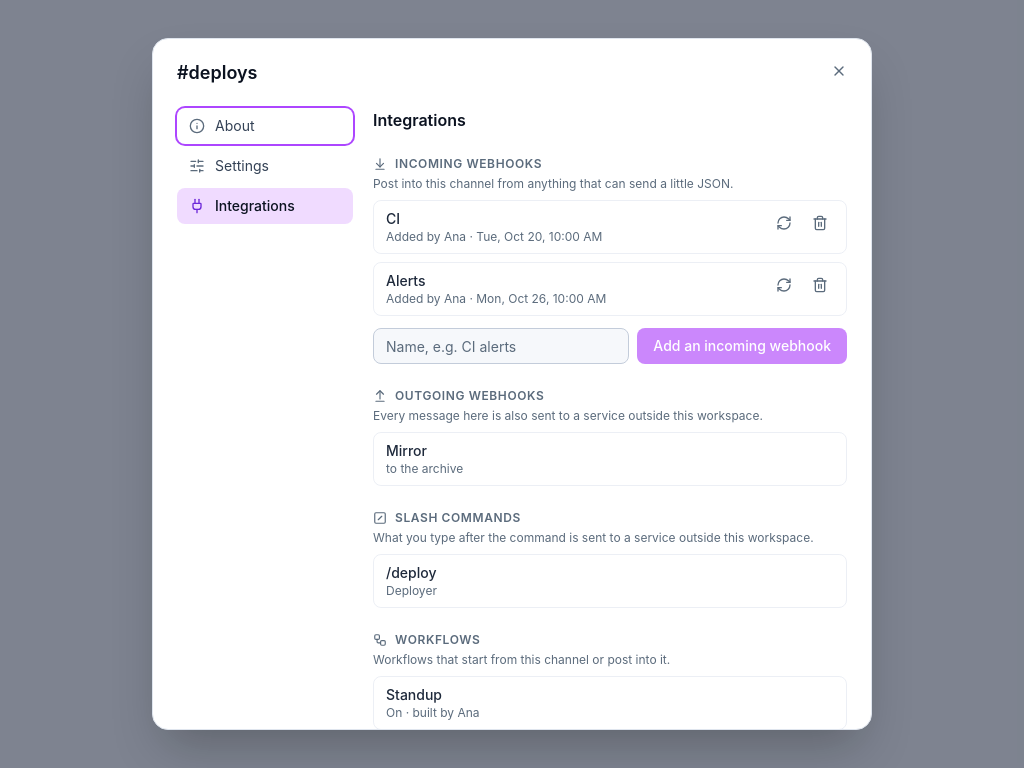
Test: ChannelDetailsModal integrations › adds an incoming webhook and shows its URL under it
Type "Alerts" into the field with test id "channel-webhook-name". click: (501, 346)
box: [373,328,629,364]
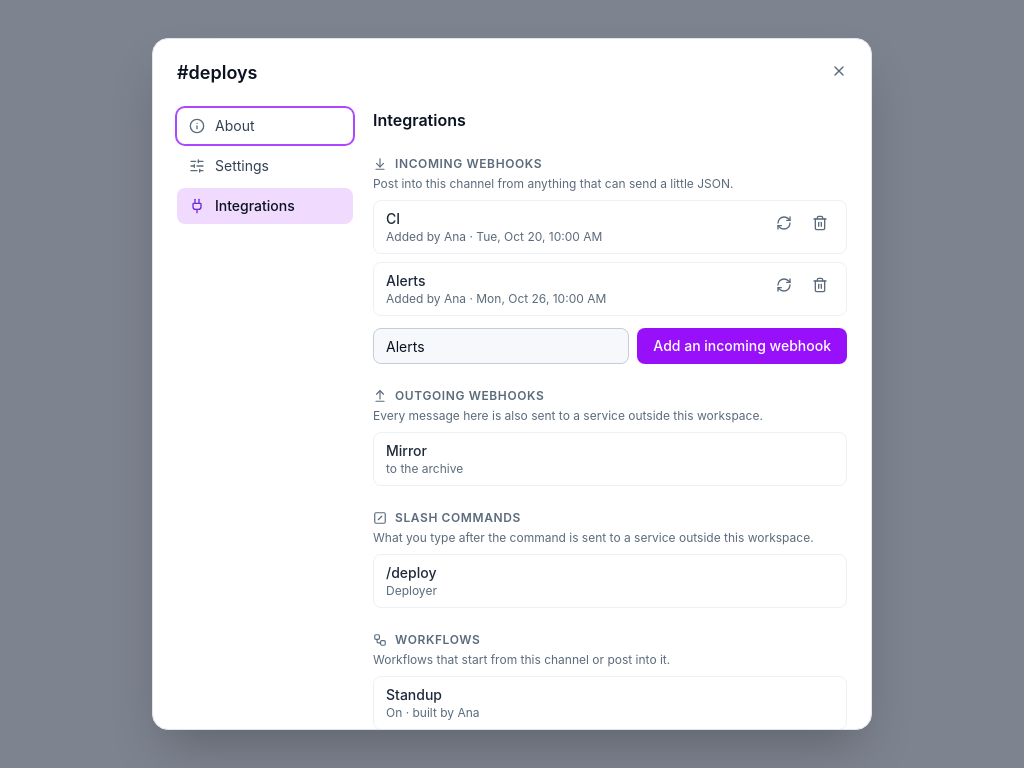
Click the button with test id "channel-webhook-add". click: (742, 346)
box: [637,328,847,364]
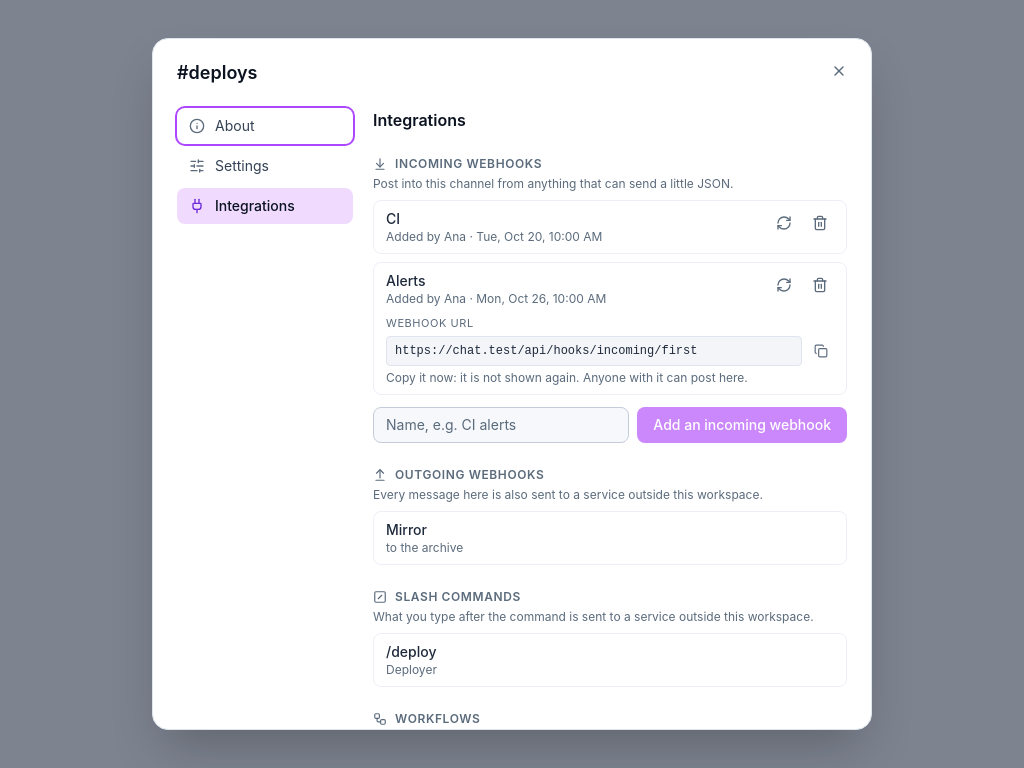
Result: the field with test id "channel-webhook-name" is empty at [373,407,629,443]
Result: the number of elements with test id "channel-webhook-url-value" is 1 at [386,336,802,366]
Result: the text with test id "channel-webhook-url-value" reads "https://chat.test/api/hooks/incoming/first" at [395,344,698,358]
